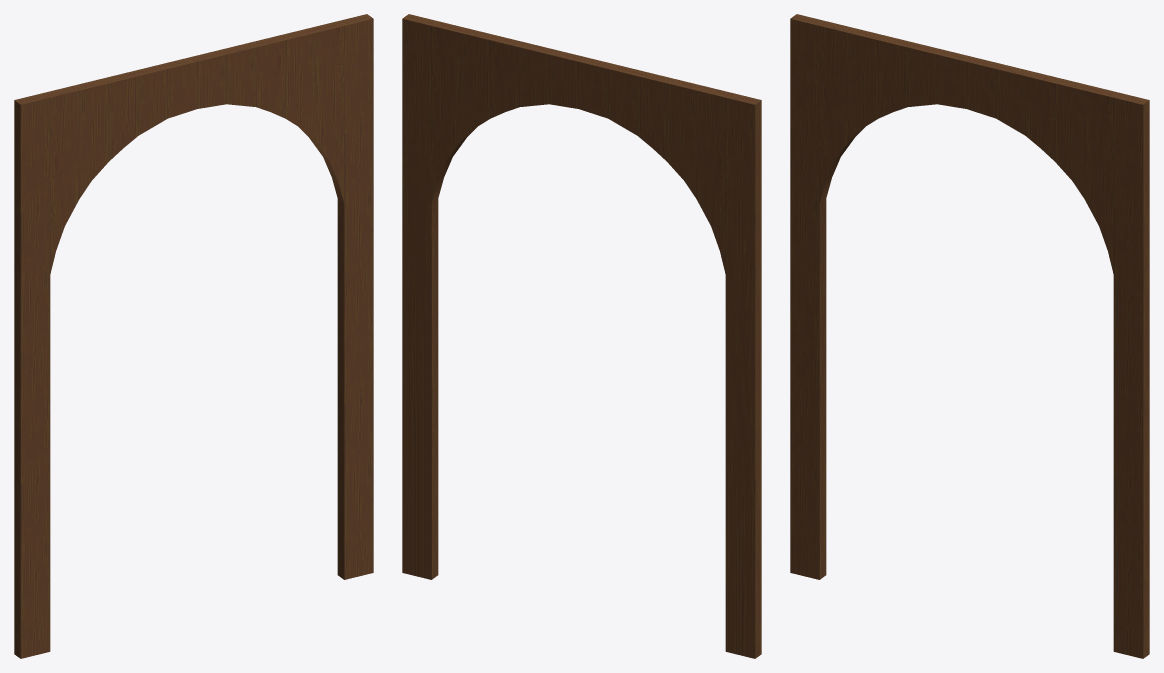
The model's file is Wall_Arch.glb.
3 views of the same model, side by side, from view 1: azimuth 30°, elevation 25°; view 2: azimuth 150°, elevation 25°; view 3: azimuth 330°, elevation 25° (orthographic).
Visible parts, largest first — view 1: Wall_Arch; view 2: Wall_Arch; view 3: Wall_Arch.
Part boxes in pixels (x1,y1,x2,y2): Wall_Arch: (14,14,373,658); Wall_Arch: (402,14,761,658); Wall_Arch: (790,14,1149,658).
Size of the model in its own units: 2 by 3 by 0.0641.
1 material, 1 textured.
